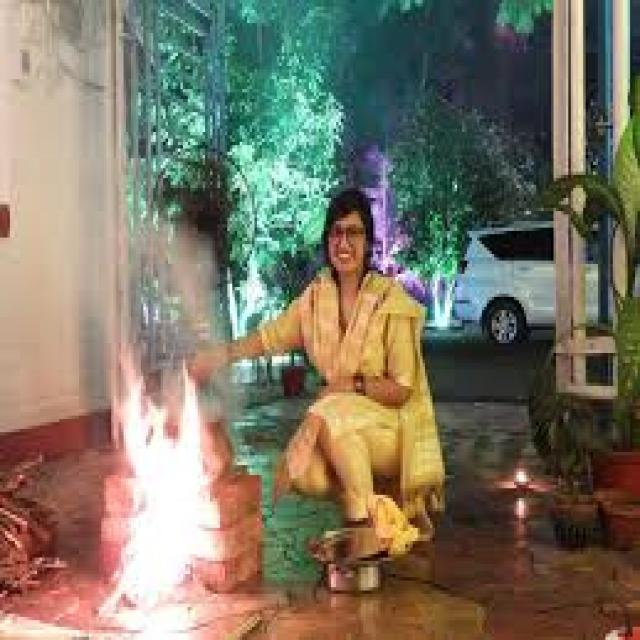fire: (98, 346, 211, 617)
